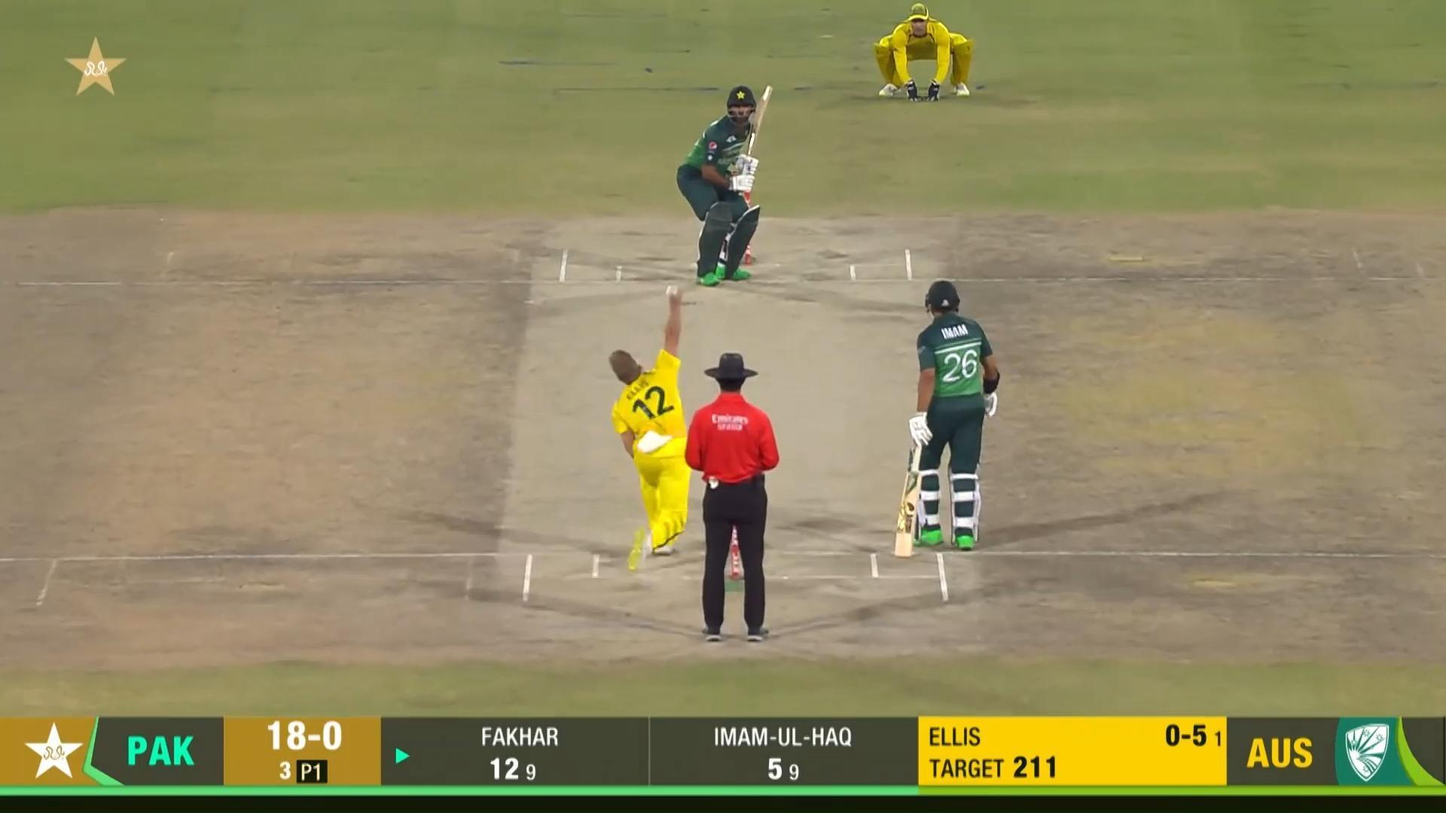BM 1: (676, 83, 773, 289)
BO: (608, 289, 689, 570)
